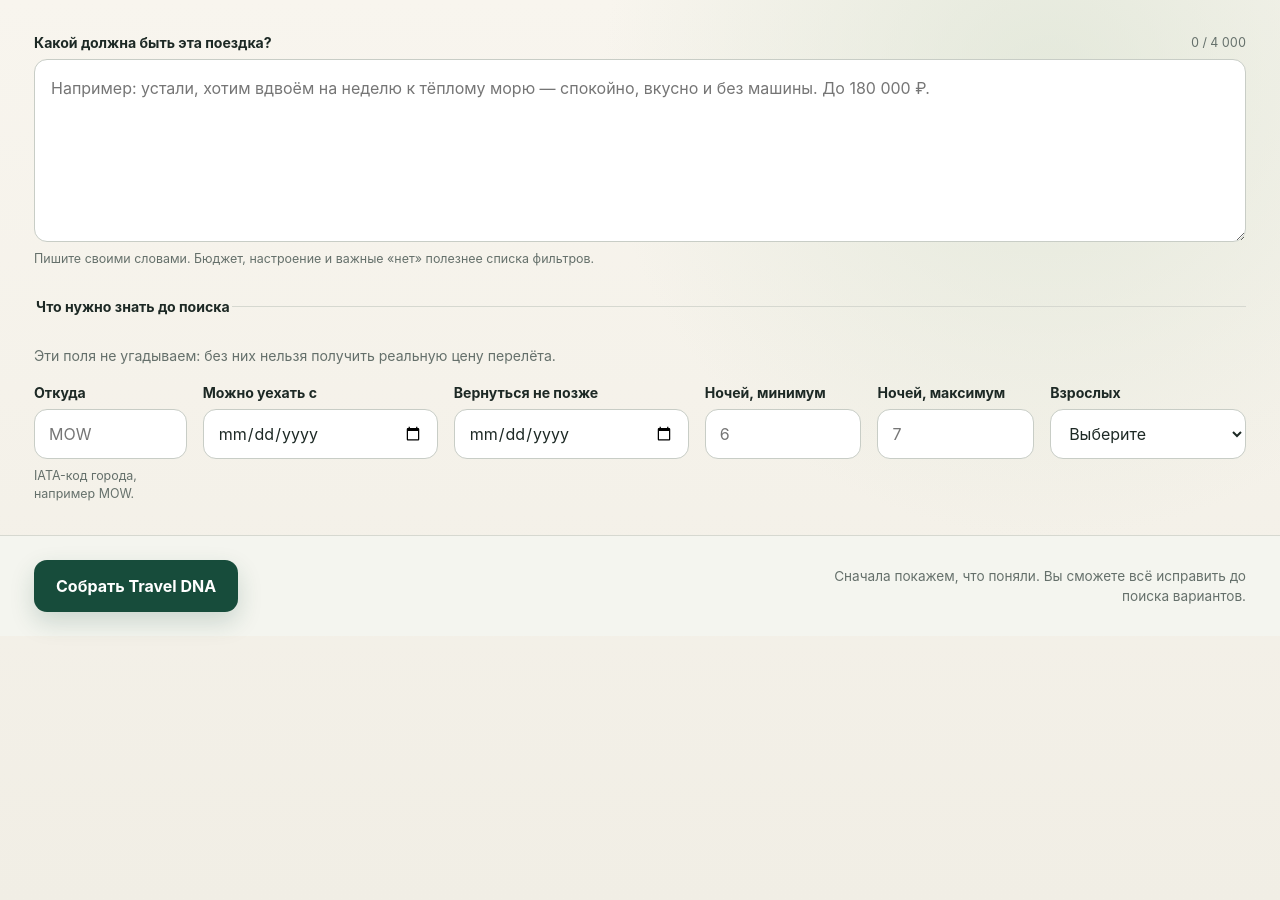
Test: DreamForm › rejects an inverted date window and duration range
The width and height of the screenshot is (1280, 900).
Type "Хочу отдохнуть" into the text box labelled "Какой должна быть эта поездка?".
click(640, 150); type("Хочу отдохнуть")  # box [34,59,1246,242]
Type "LED" into the field labelled "Откуда".
click(110, 434); type("LED")  # box [34,409,187,459]
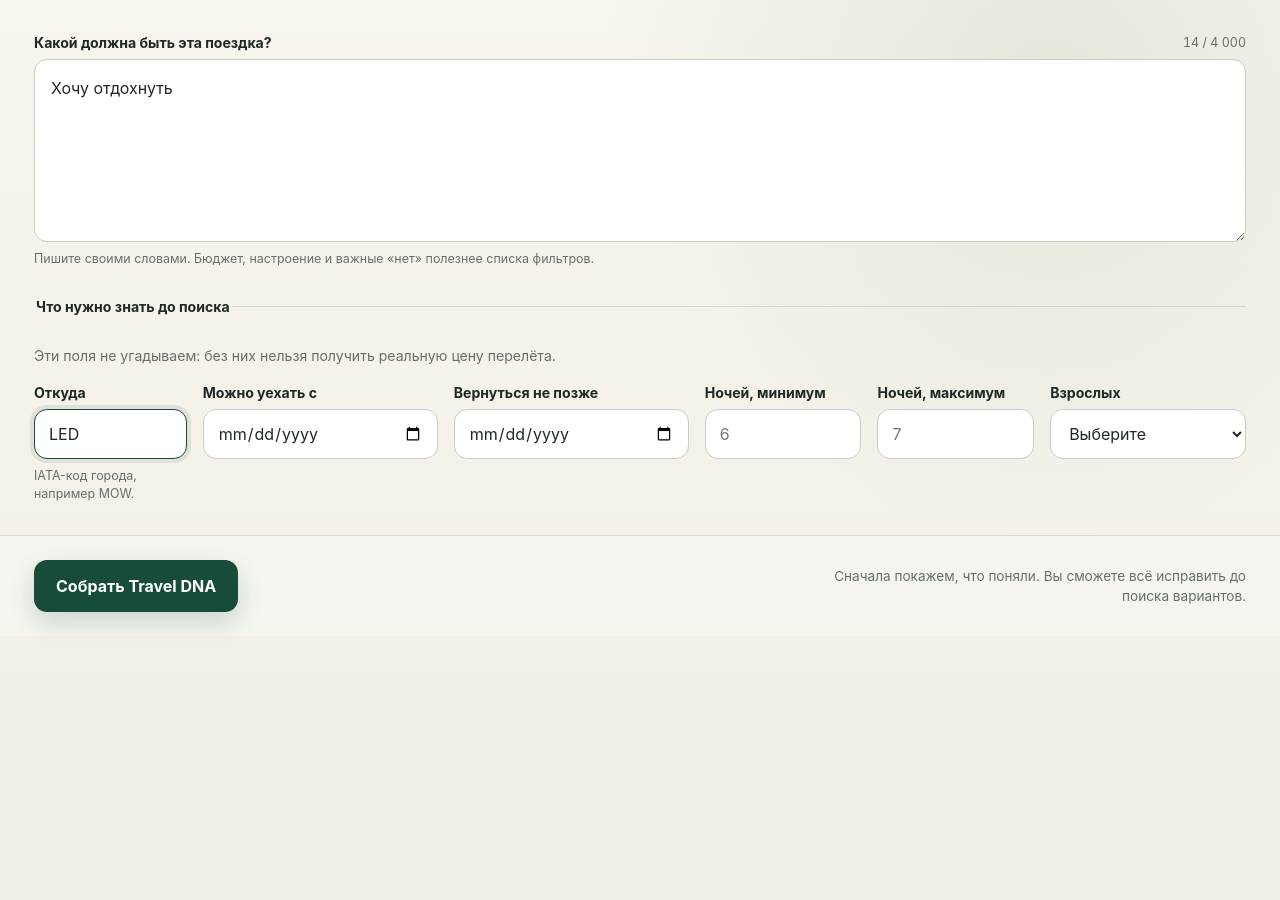
Type "2026-10-20" into the date field labelled "Можно уехать с".
click(320, 434); type("2026-10-20")  # box [203,409,438,459]
Type "2026-10-10" into the date field labelled "Вернуться не позже".
click(571, 434); type("2026-10-10")  # box [454,409,689,459]
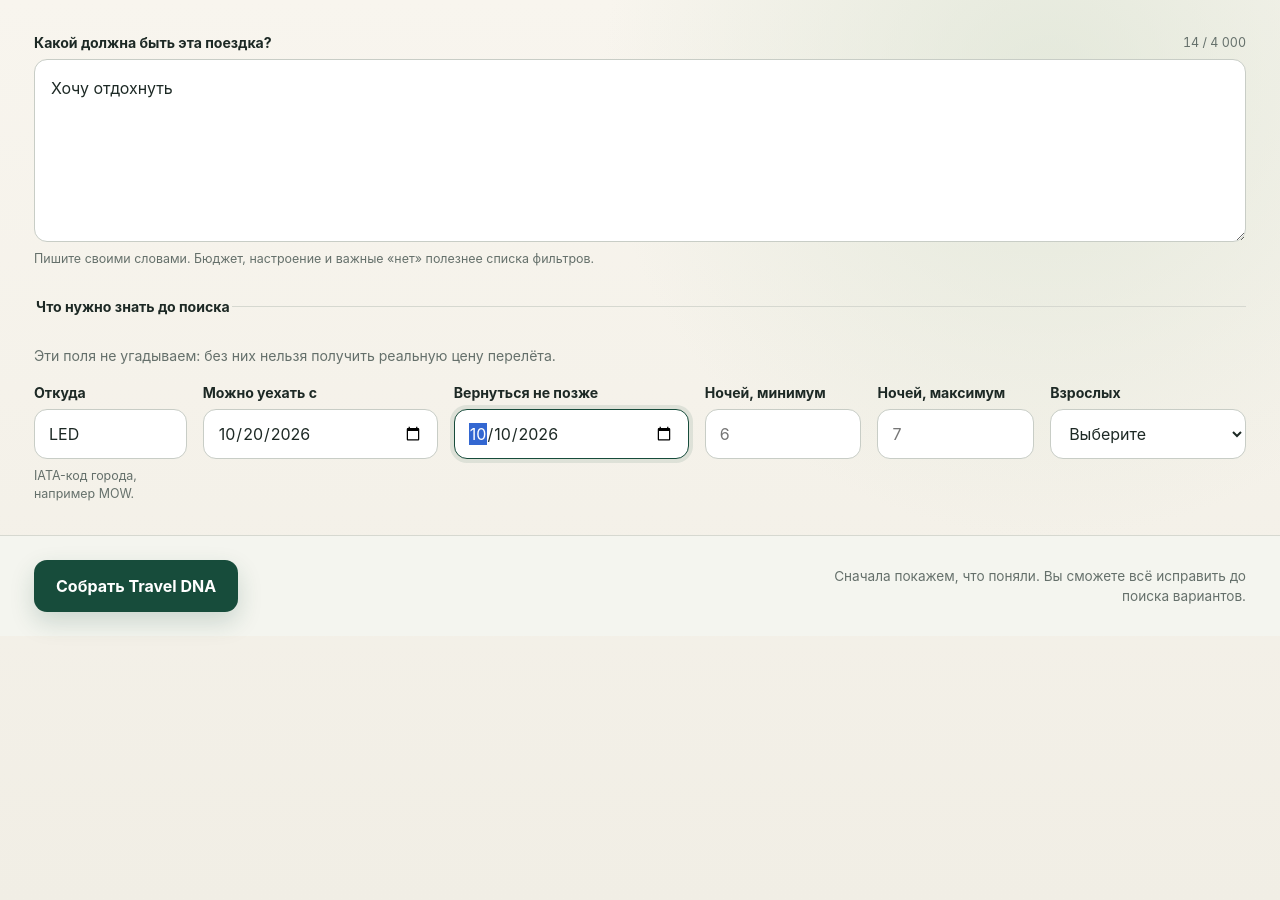
Type "10" into the number field labelled "Ночей, минимум".
click(783, 434); type("10")  # box [705,409,862,459]
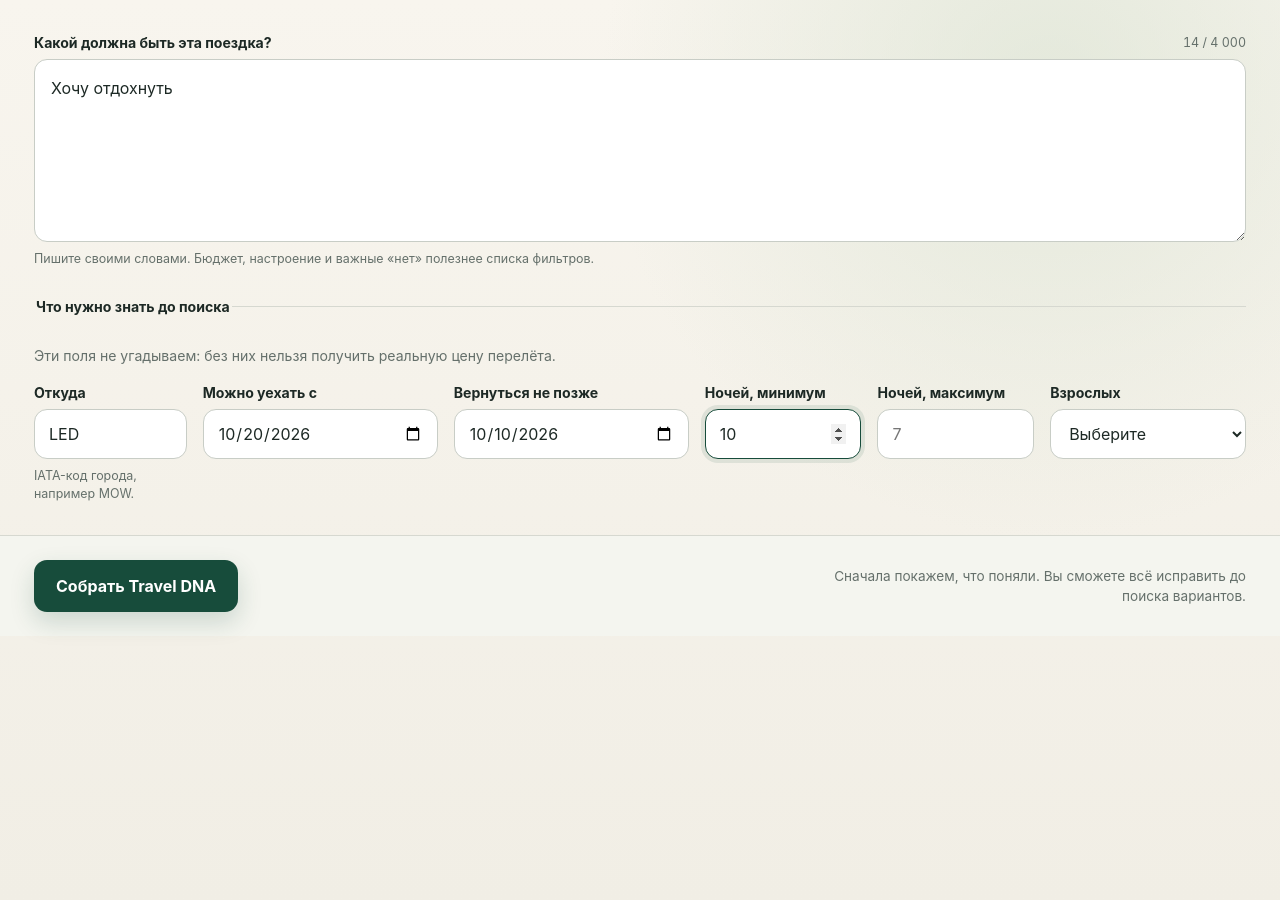
Type "5" into the number field labelled "Ночей, максимум".
click(956, 434); type("5")  # box [878,409,1034,459]
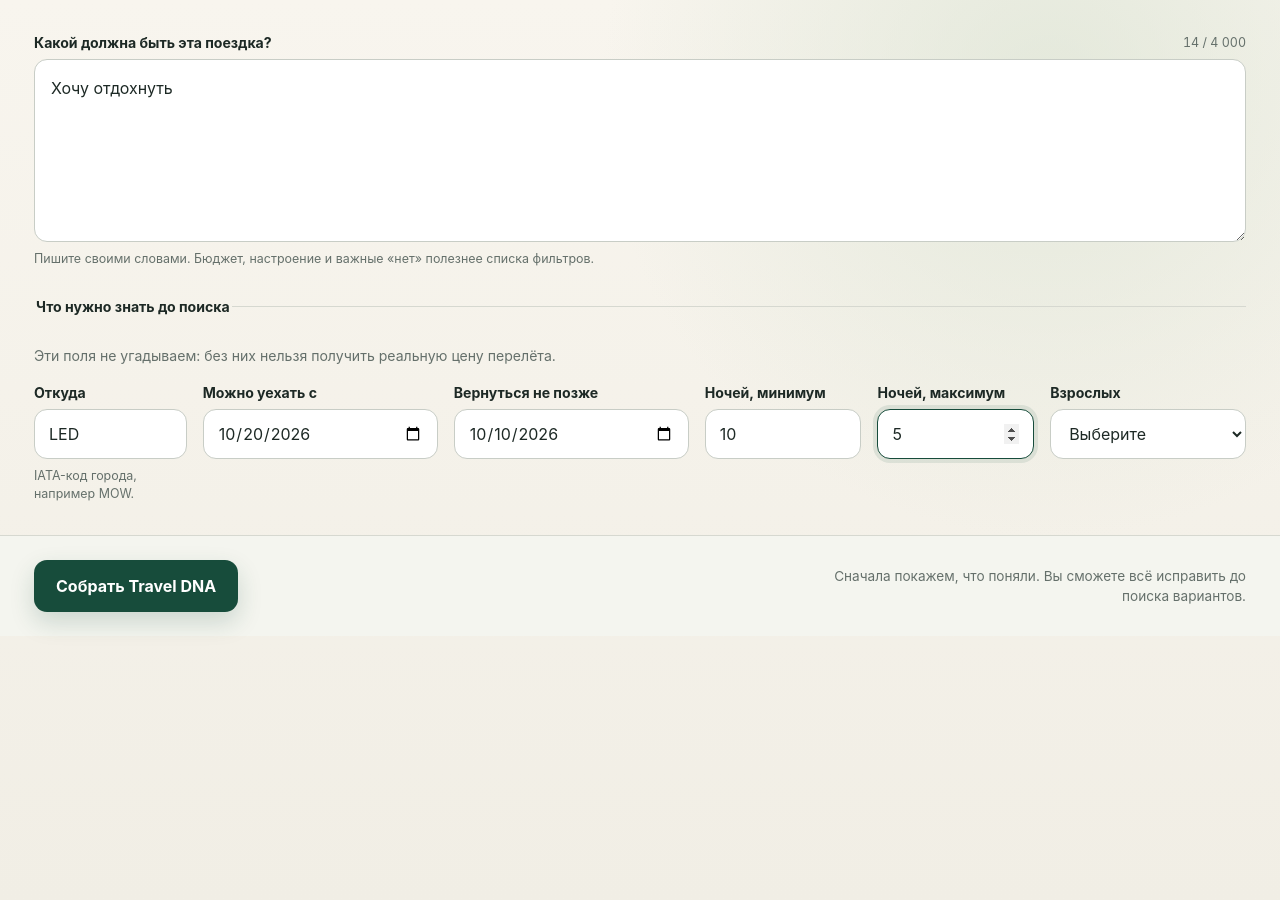
Select "1 взрослый" in the dropdown labelled "Взрослых" at {"x": 1148, "y": 434}, box [1050,409,1246,459]
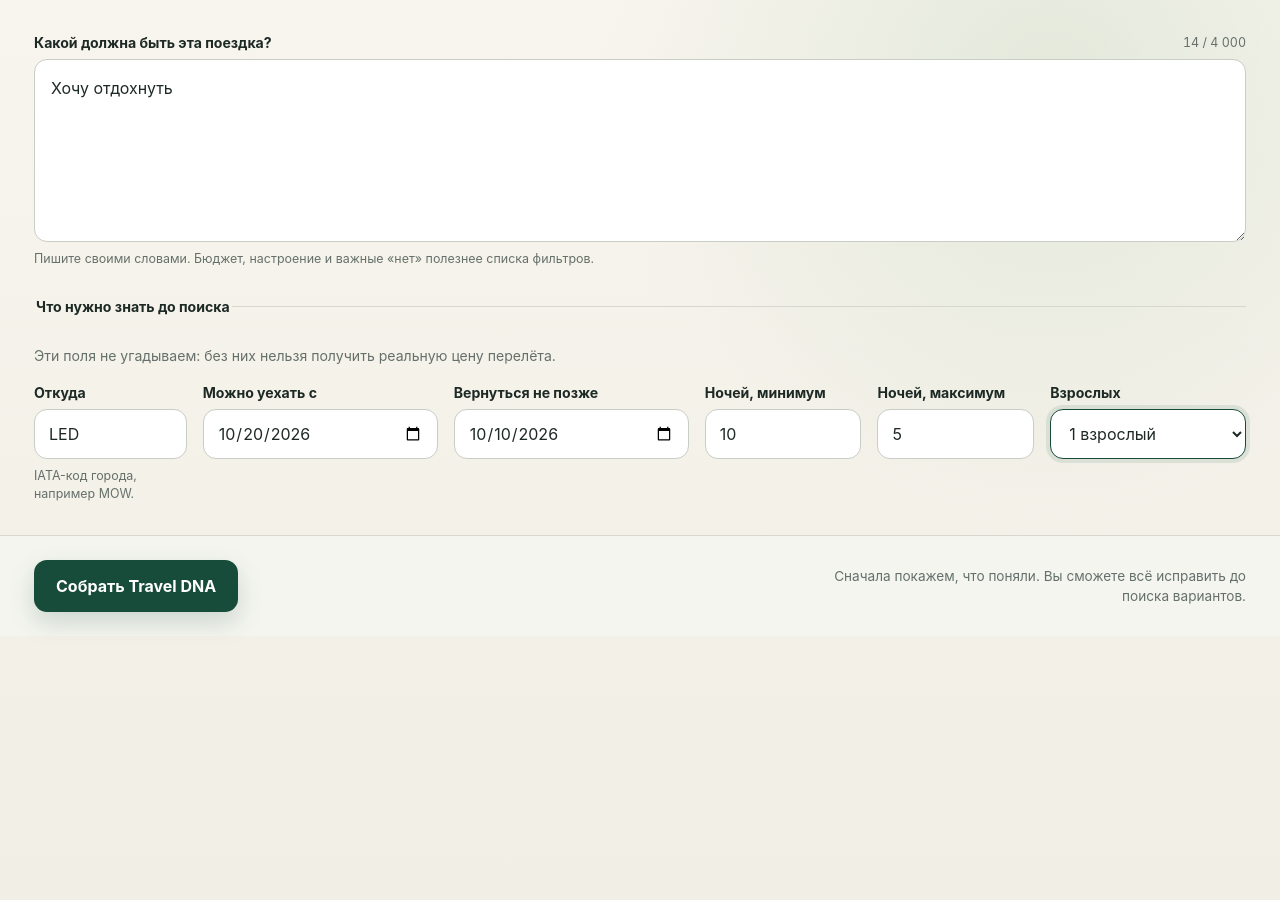
Click the button "Собрать Travel DNA".
click(136, 586)  # box [34,560,238,612]
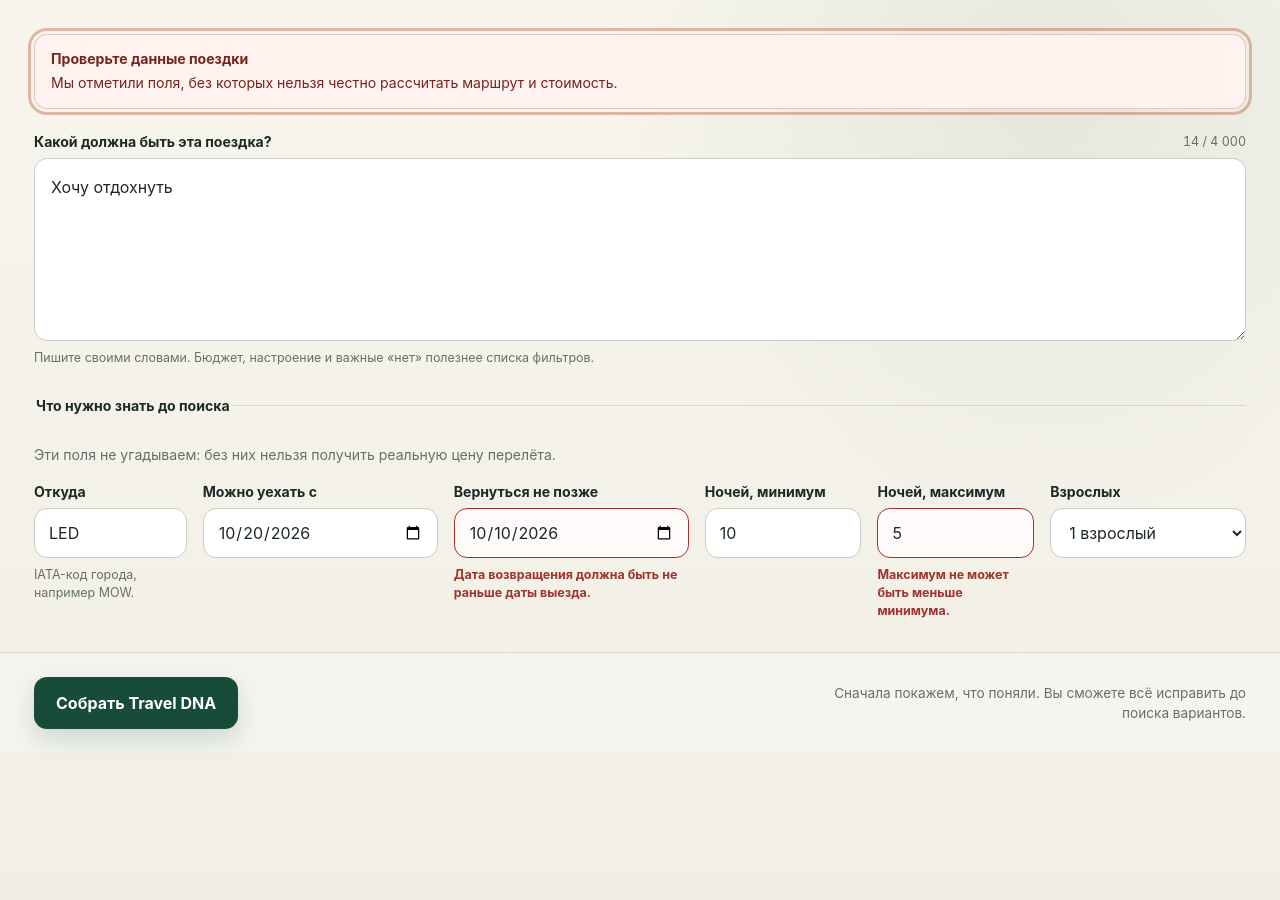
Check: the text "Дата возвращения должна быть не раньше даты выезда." is shown, box [454,566,689,602]
Check: the text "Максимум не может быть меньше минимума." is shown, box [878,567,1009,618]
